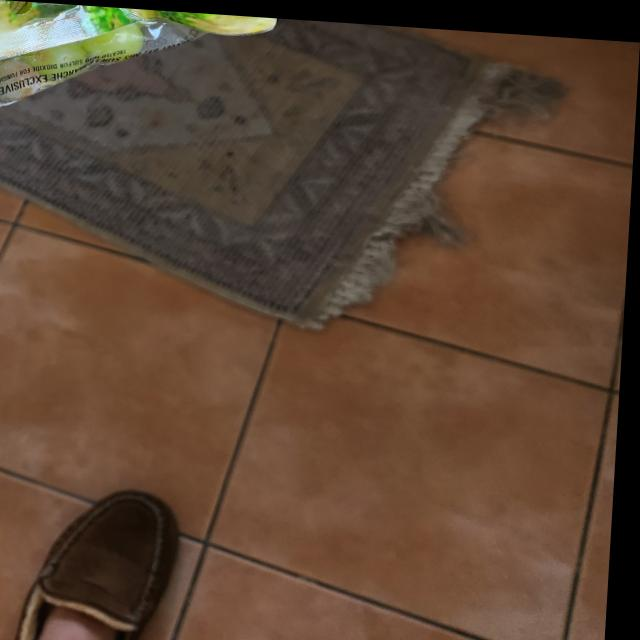grapes: (0, 0, 386, 174)
